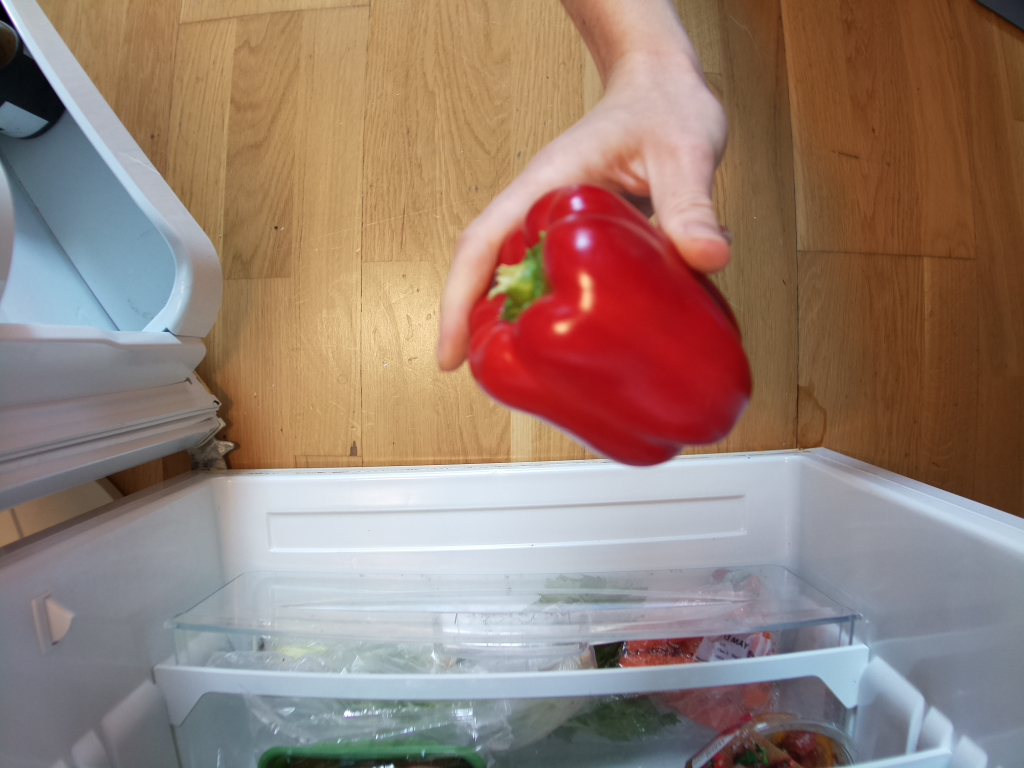pepper: (460, 186, 756, 470)
